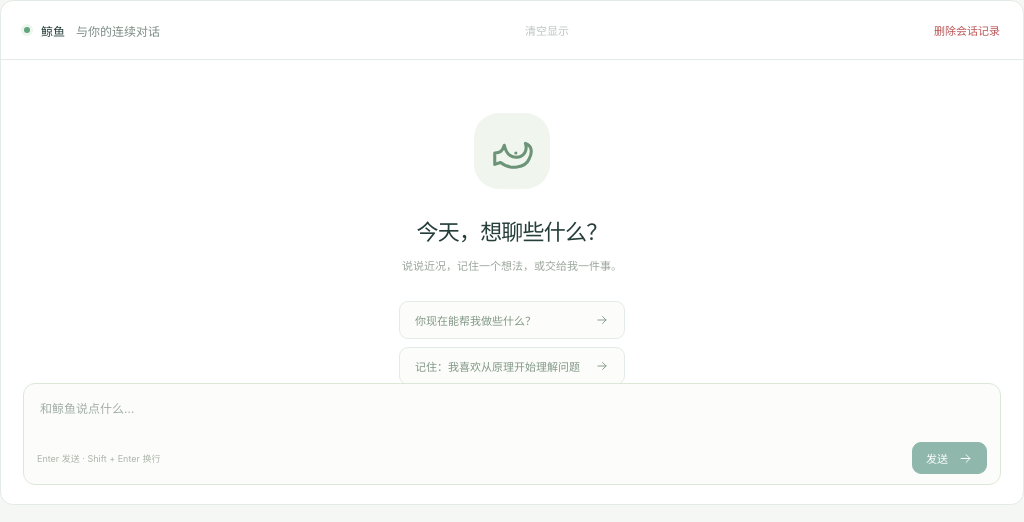
Test case: Chat 流式（issue #45） › error 事件：渲染明确错误条（限流含重试建议）
The image size is (1024, 522).
Type "你好" into the text box named "消息内容" at [512, 414], box [32, 389, 992, 439]
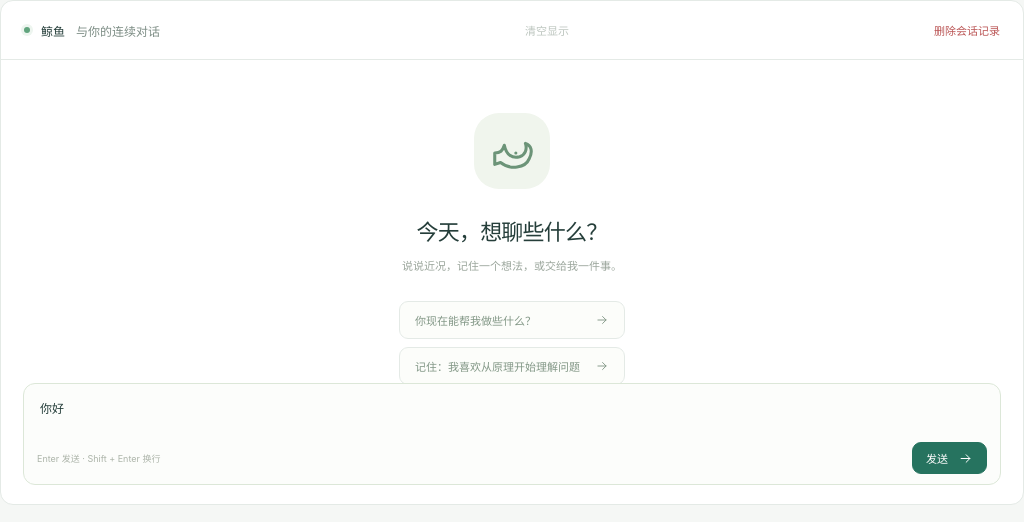
Click the button "发送" at [950, 458], box [912, 442, 987, 474]
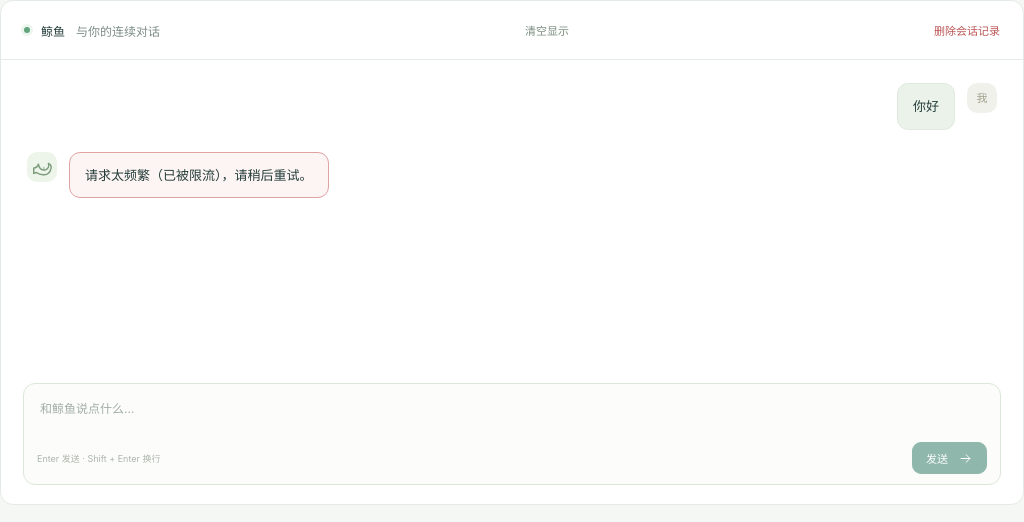
Expected: the text "请求太频繁（已被限流），请稍后重试。" is shown, [69, 152, 328, 198]
